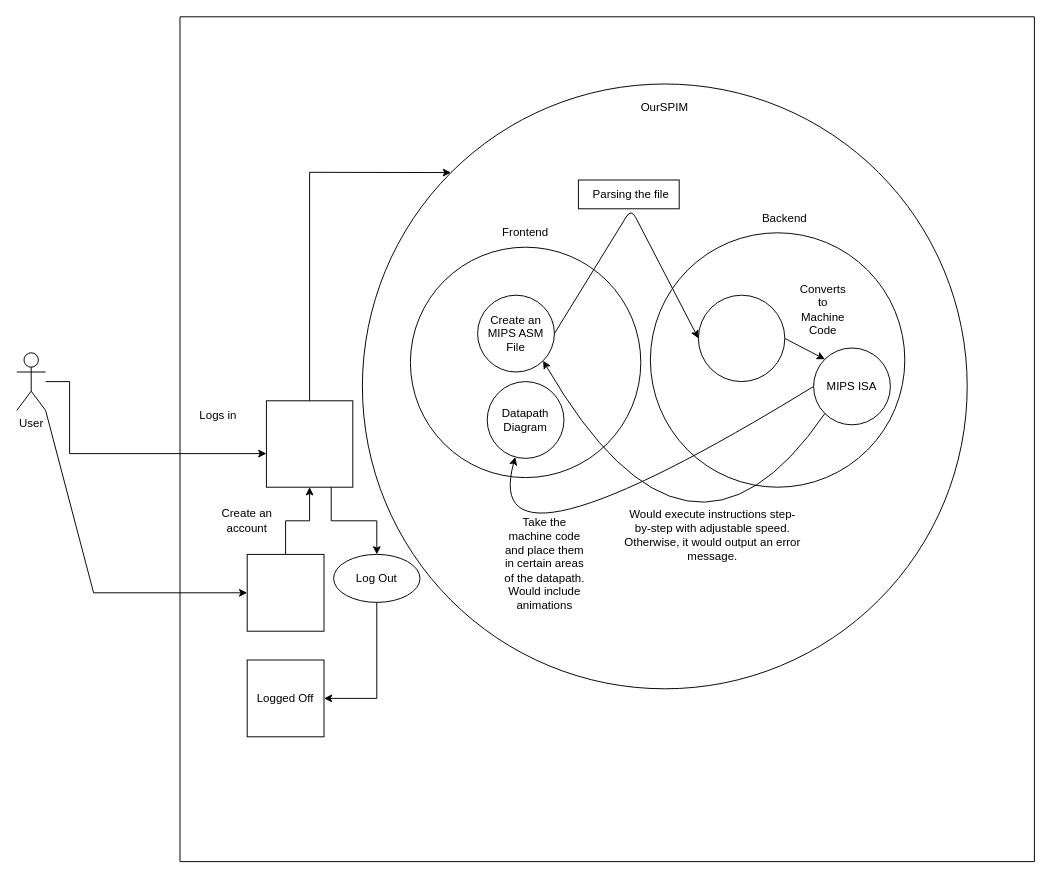
The diagram is 1051 pixels wide and 878 high, and some of its shapes have lost their labels. Here are the shapes that lost their labels. From the top down, the centre of each, then its label:
[741,338]: Assembler
[309,443]: Logged In
[285,592]: User is Registered
